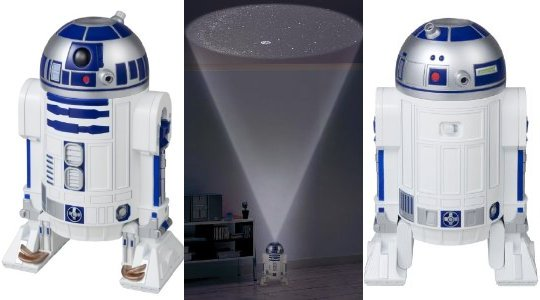r2d2: (15, 10, 180, 290), (370, 17, 536, 287), (262, 243, 289, 286)
